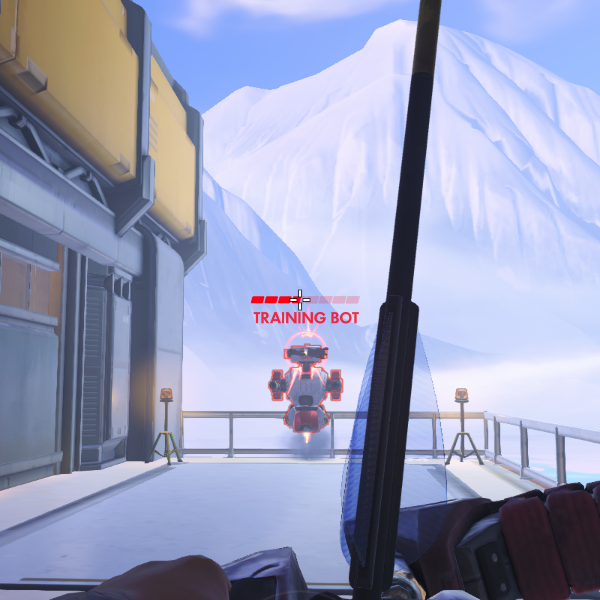hpbar: (251, 296, 360, 304)
